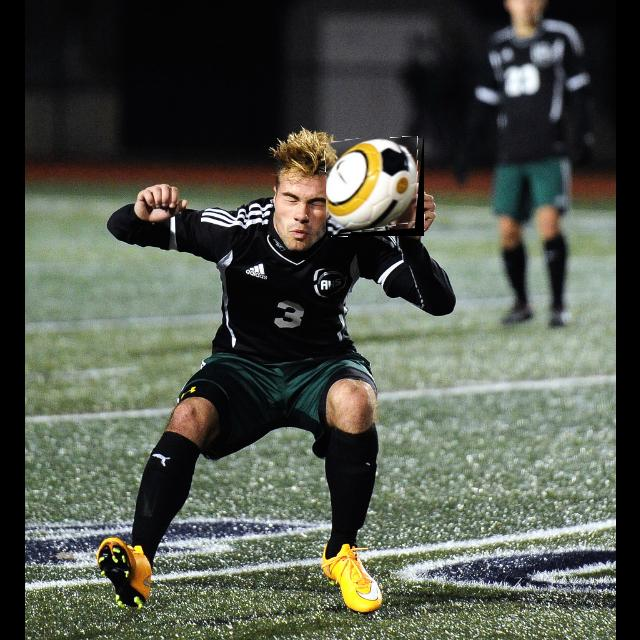Football: (326, 138, 424, 236)
